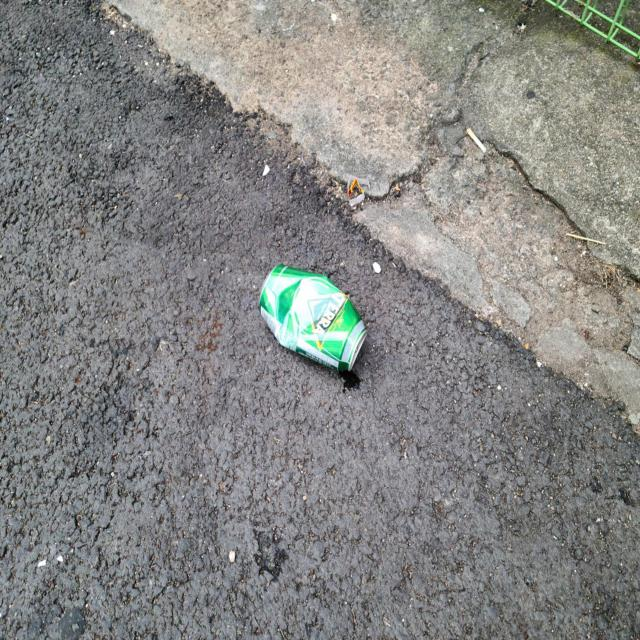can: (259, 264, 367, 371)
